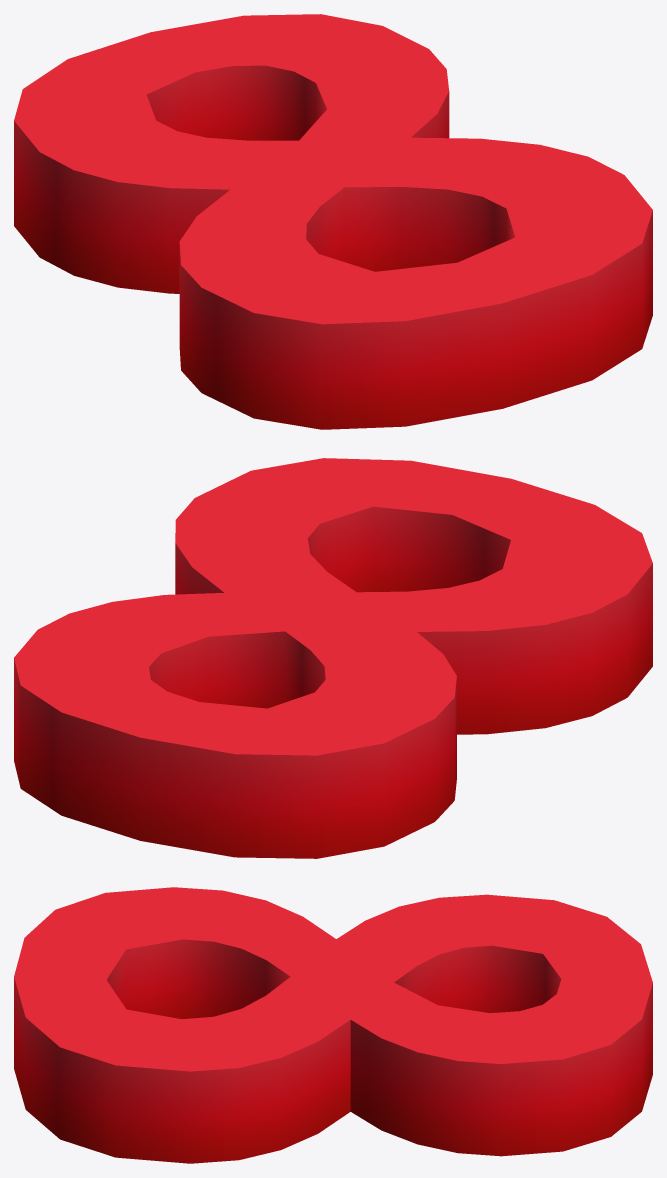
Rendered from figure_8.fbx.
3 views of the same model, one above another, from view 1: azimuth 30°, elevation 25°; view 2: azimuth 150°, elevation 25°; view 3: azimuth 270°, elevation 25° (orthographic). The views are drawn at different scales.
Visible parts, largest first — view 1: figure_8; view 2: figure_8; view 3: figure_8.
Part boxes in pixels (x1=…): figure_8: x1=14, y1=14, x2=652, y2=429; figure_8: x1=14, y1=458, x2=652, y2=858; figure_8: x1=14, y1=887, x2=652, y2=1163.
Bounding box in the file's own units: 16.09 × 3.75 × 23.57.
